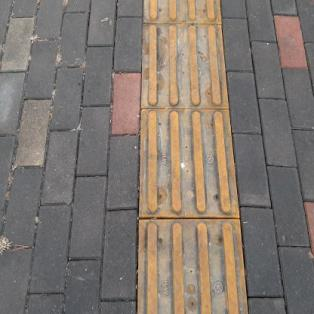Podoctatil: (129, 0, 254, 313)
